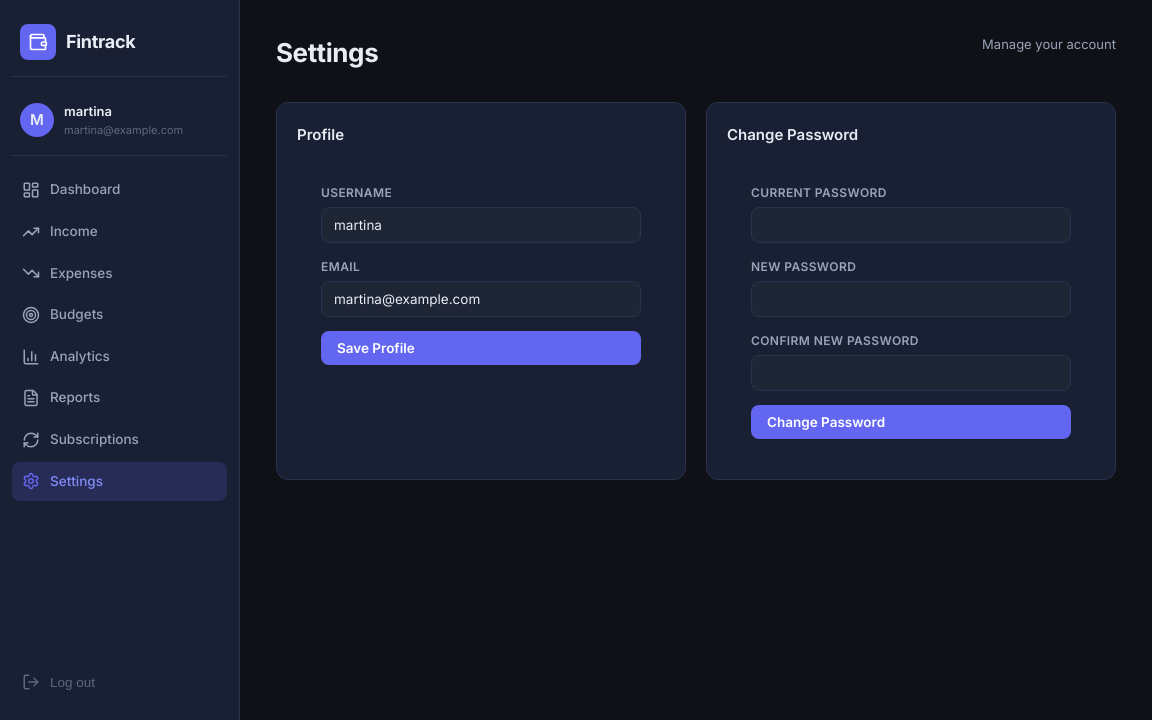
Scenario: password › shows a generic message when the request fails without a reason
Expected: the field below "Username" holds "martina", [321,207,641,243]
Step 1. Type "a" into the password field below "Current Password" → [911, 225], box [751,207,1071,243]
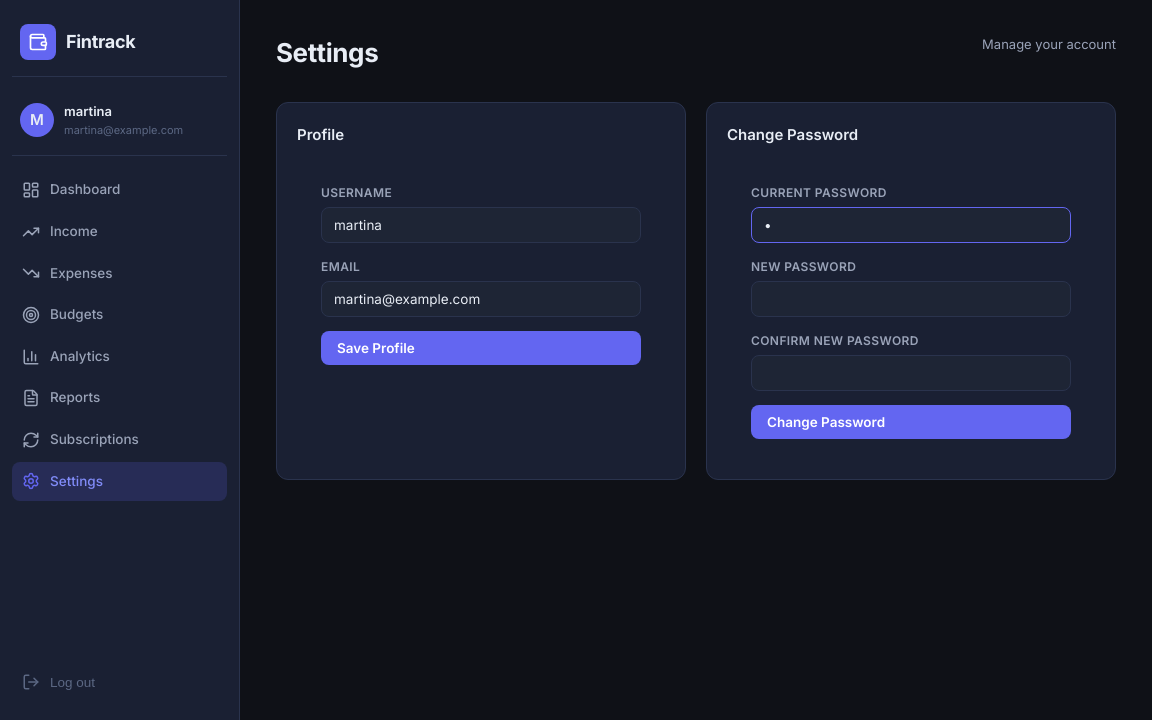
Step 2. Type "b" into the 2nd password field → [911, 299], box [751,281,1071,317]
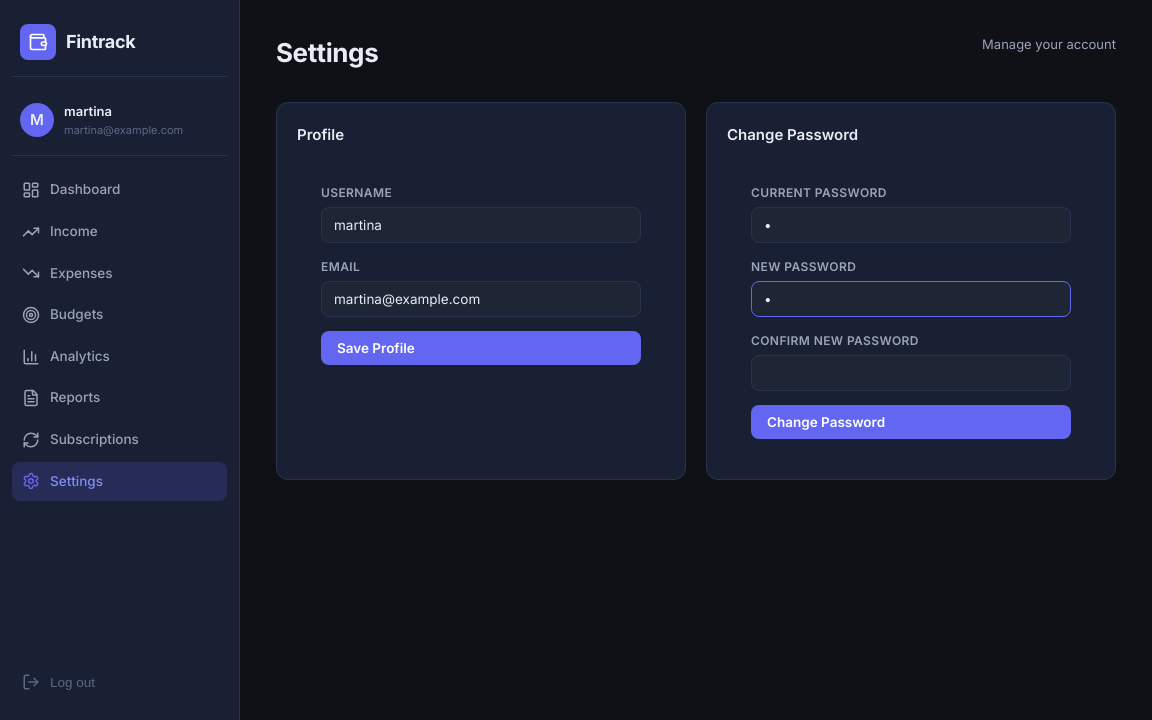
Step 3. Type "b" into the password field below "Confirm New Password" → [911, 373], box [751,355,1071,391]
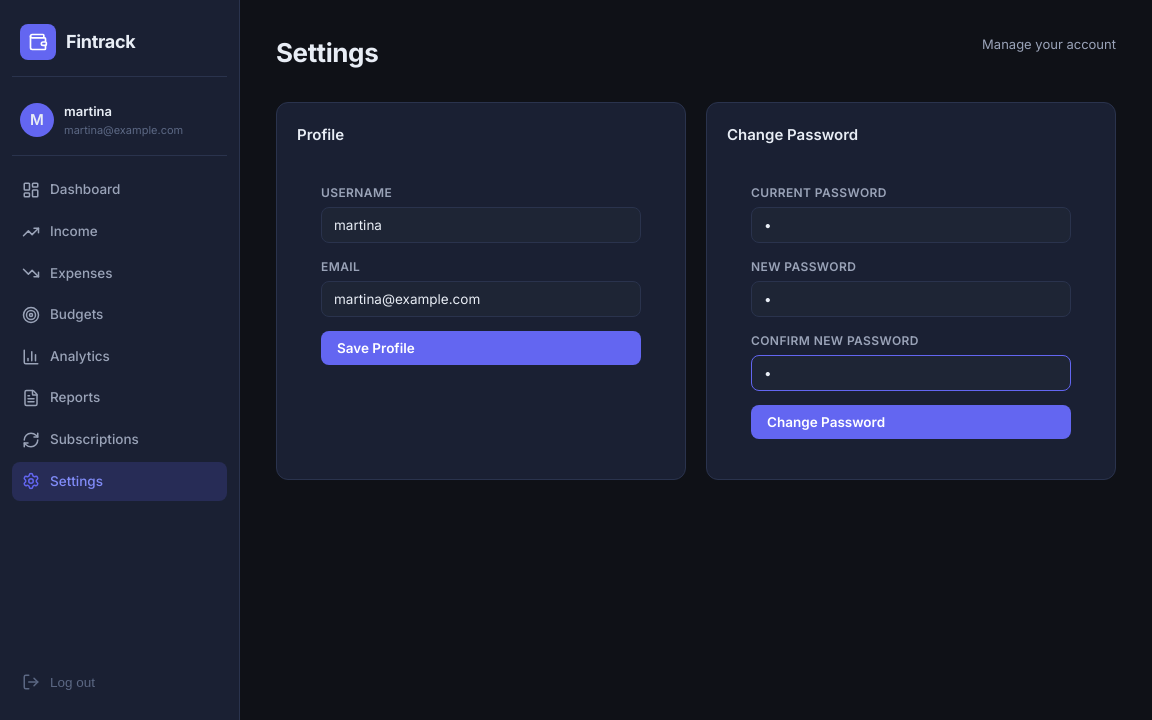
Step 4. Click the button "Change Password" → [826, 422], box [751,405,1071,439]
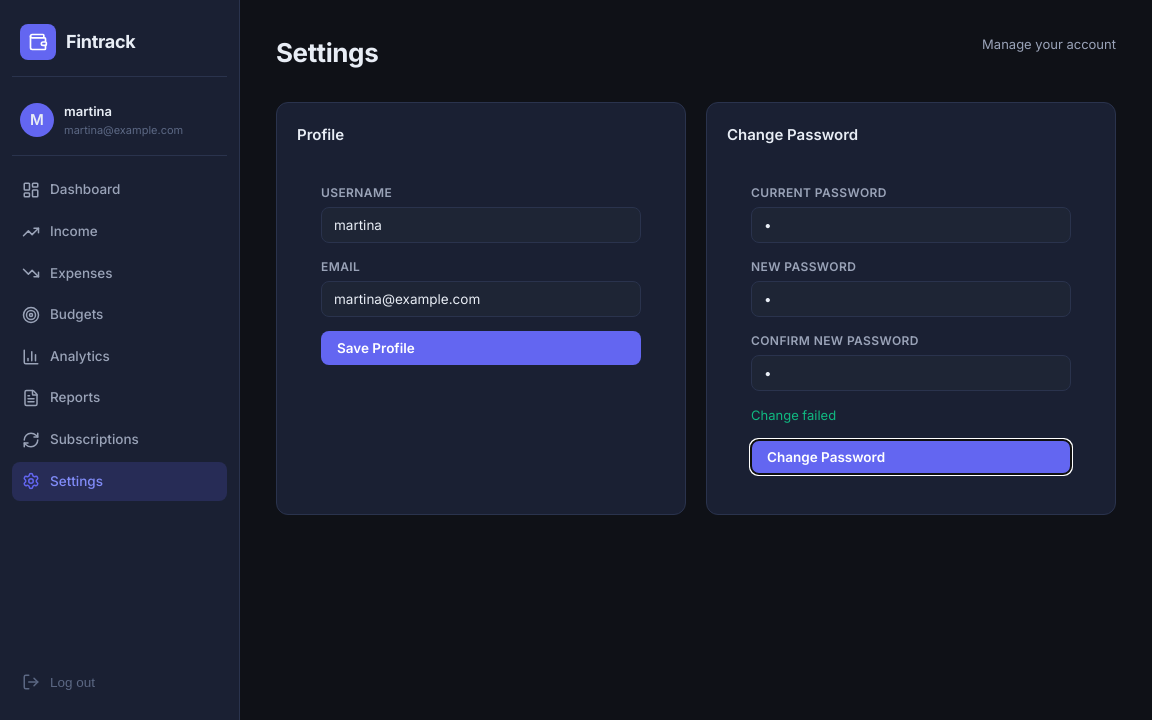
Result: the text "Change failed" is shown at [751,407,836,423]
